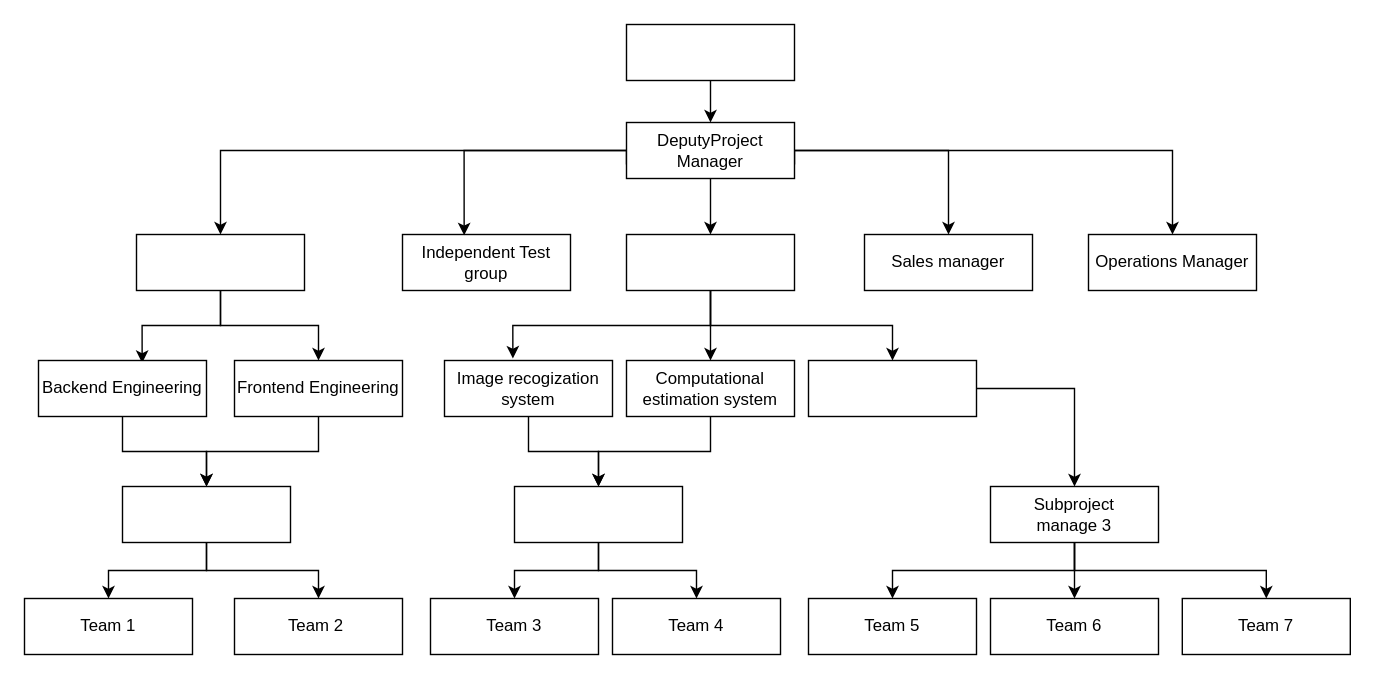
Image size: 1375x679. Some labels were removed from this diagram. The centre of each missing label's shape, as x and y in pixels:
AI model research and development: pixel 891 387
Project manager: pixel 709 51
Software Engineering: pixel 219 261
Subproject manage 1: pixel 205 513
Subproject manage 2: pixel 597 513
System Engineering: pixel 709 261
